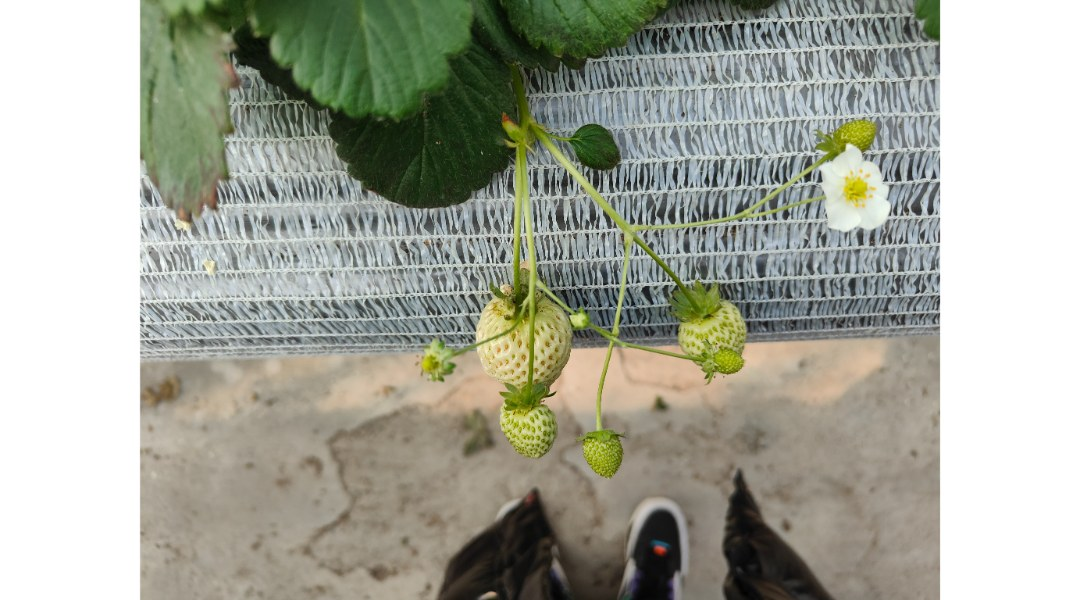berry: (466, 275, 580, 401), (663, 270, 755, 372), (497, 381, 563, 465), (824, 108, 887, 151), (580, 424, 624, 485), (707, 337, 754, 381)
flower: (806, 148, 902, 241)
strain: (535, 123, 627, 235), (587, 247, 628, 423), (649, 195, 731, 248), (505, 160, 528, 265)
